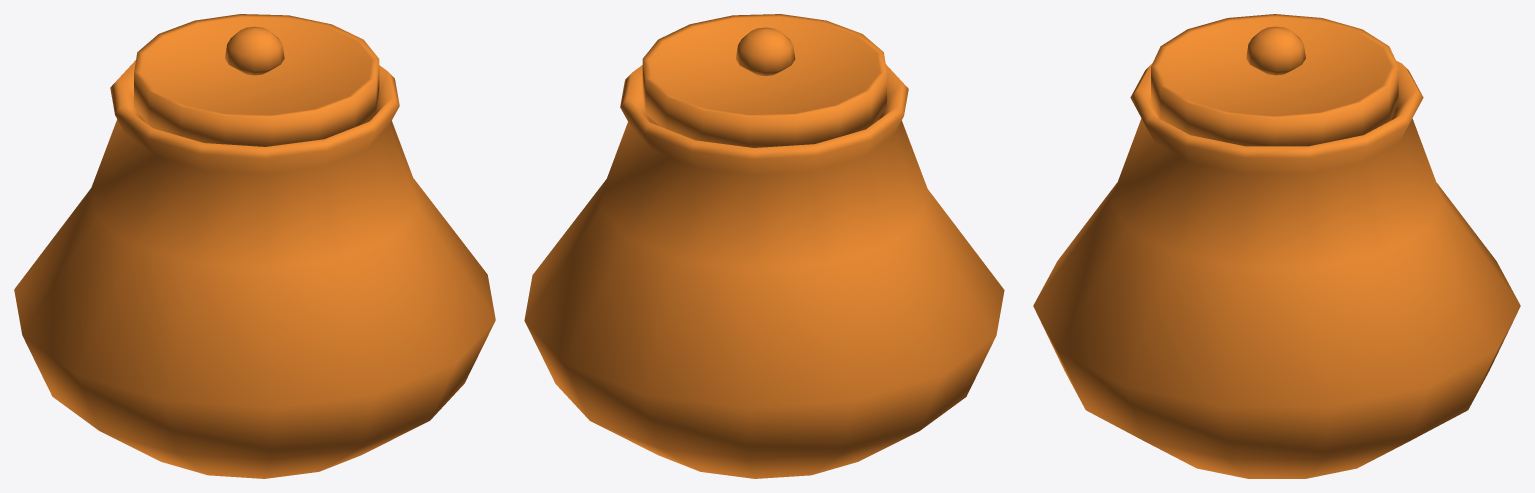
File: SM_pottery_05.fbx
3 views of the same model, side by side, from view 1: azimuth 30°, elevation 25°; view 2: azimuth 150°, elevation 25°; view 3: azimuth 270°, elevation 25° (orthographic).
Visible parts, largest first — view 1: Cylinder073; view 2: Cylinder073; view 3: Cylinder073.
Boxes of the visible parts, x1,y1,x2,y2 form: Cylinder073: (14,14,495,478); Cylinder073: (524,14,1004,478); Cylinder073: (1033,14,1520,478).
Size of the model in its own units: 18.63 by 17.12 by 19.11.
